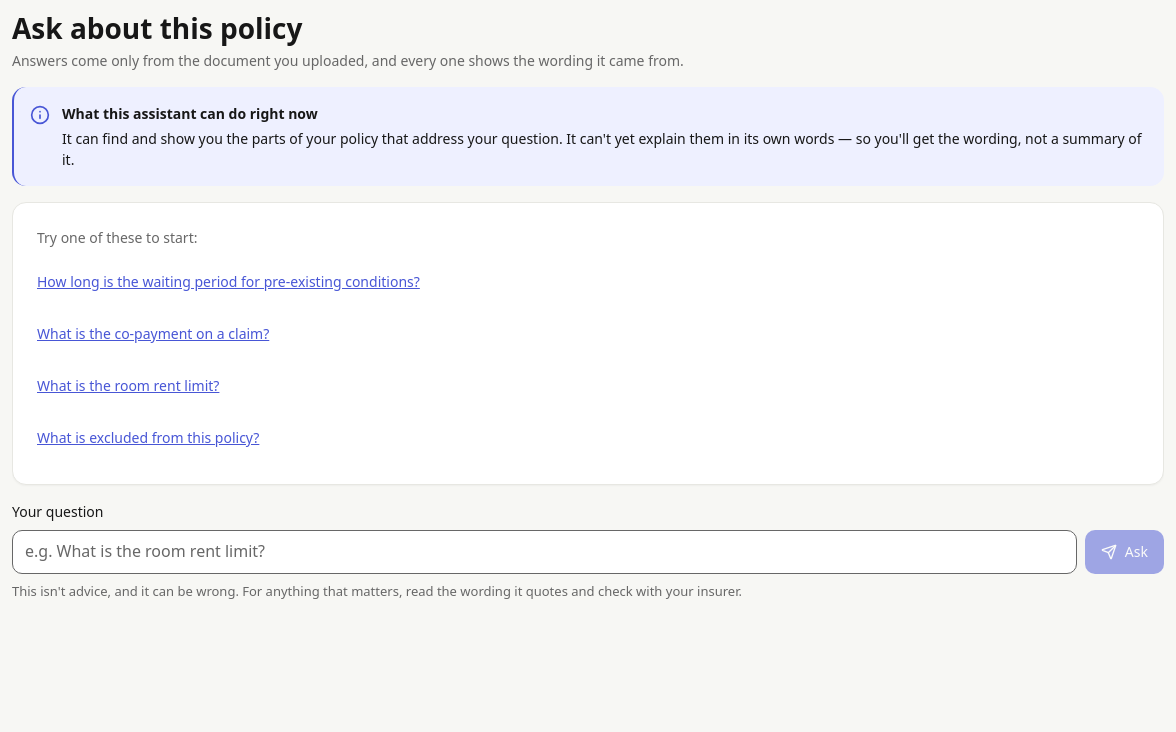
Test: AskPanel › shows the wording an answer was based on
Step 1. Type "waiting period?" into the field labelled "Your question" → coordinates (544, 552), box [12,530,1077,574]
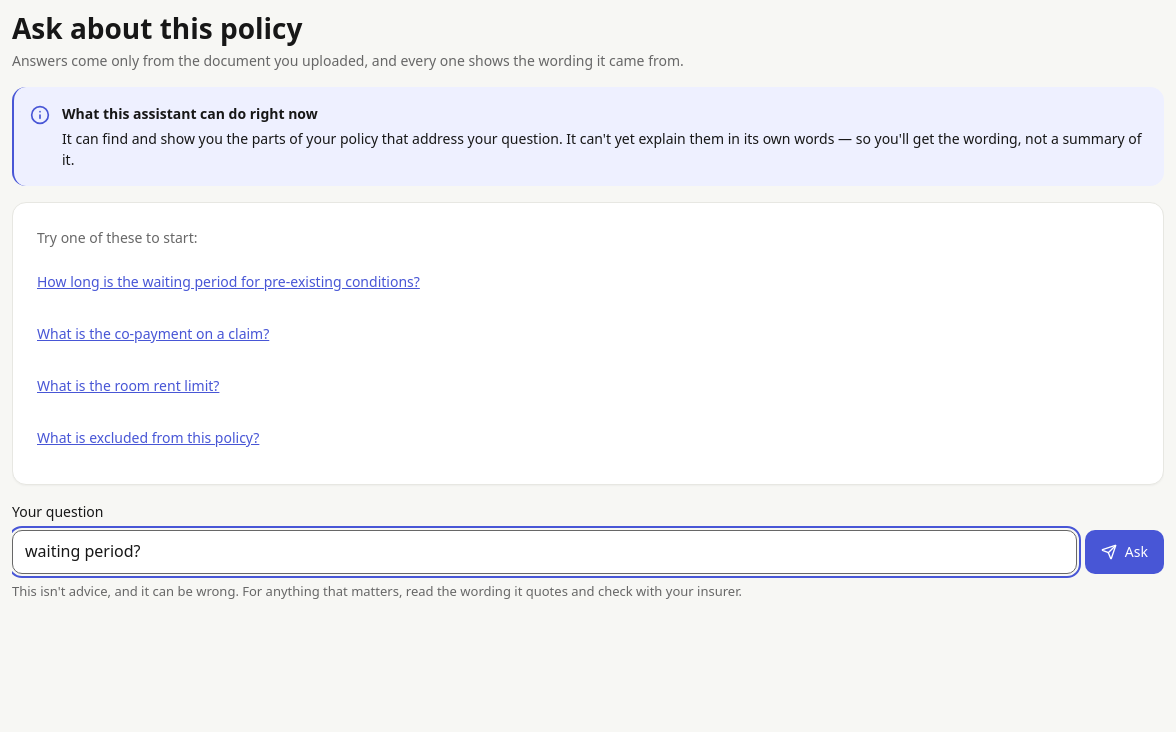
Step 2. Click the button "Ask" → coordinates (1124, 552), box [1085,530,1164,574]
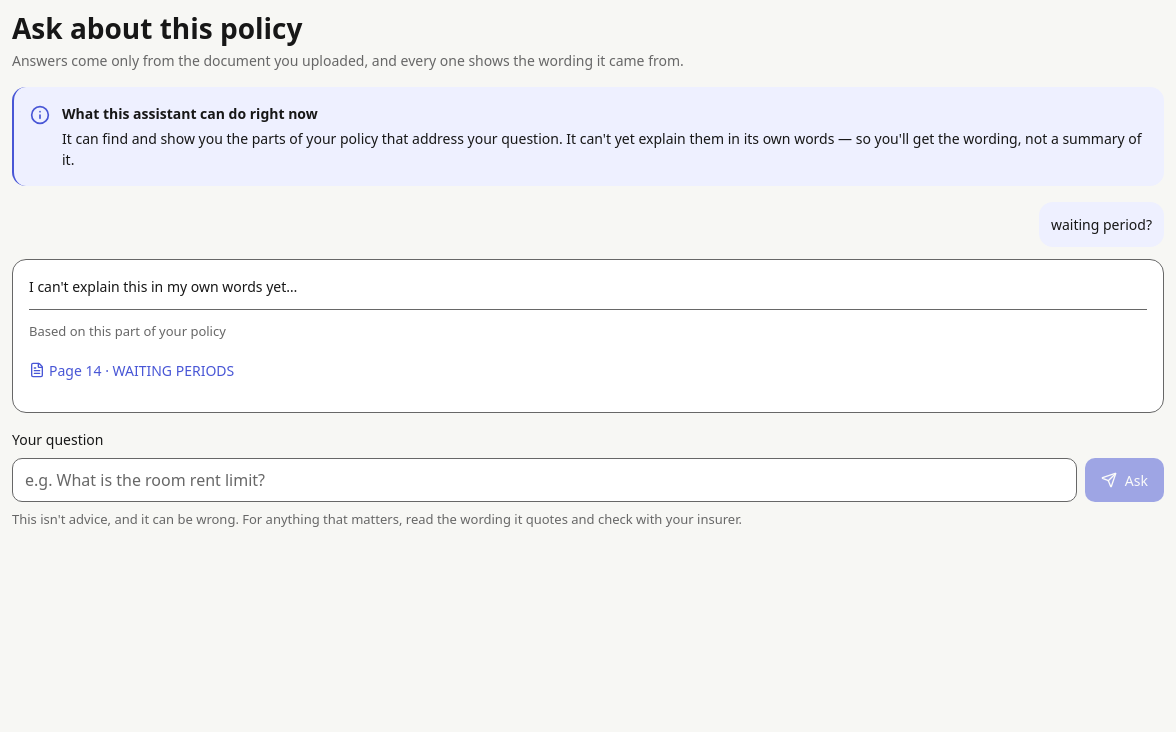
Expected: the text "Based on this part of your policy" is shown, [29,322,226,340]
Expected: the heading "Page 14 · WAITING PERIODS" is shown, [29,361,234,380]
